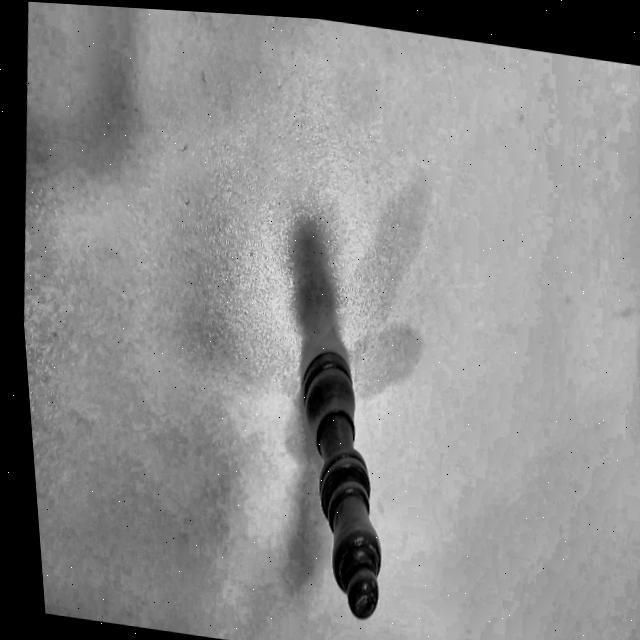black-queen: (260, 315, 418, 640)
